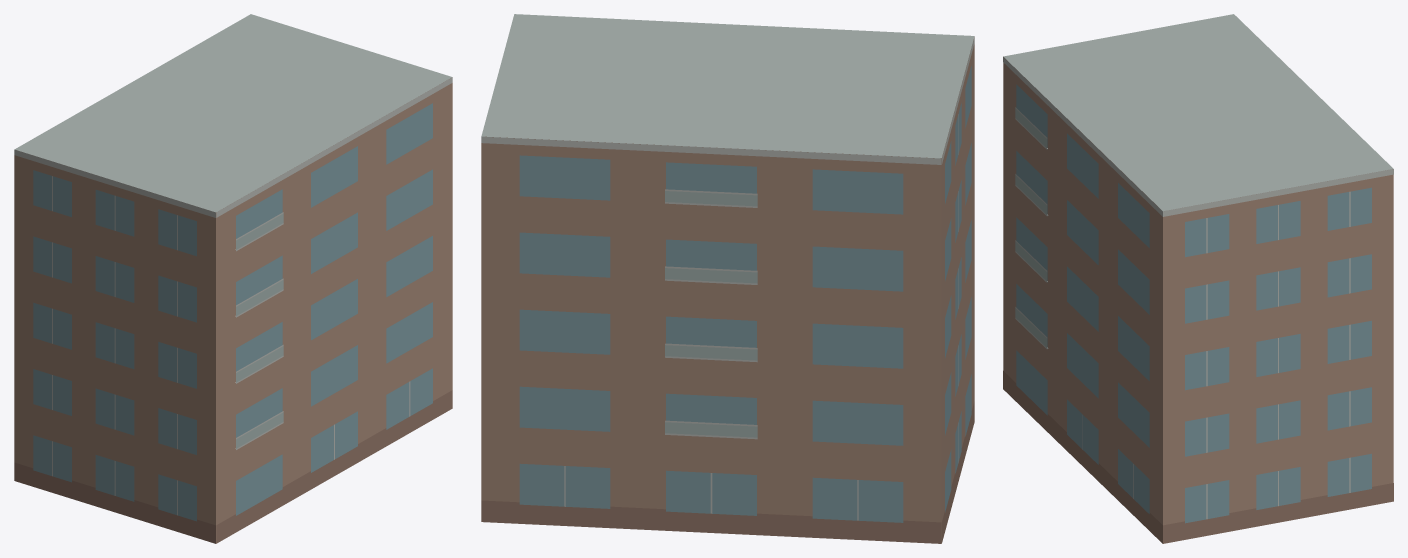
The model's file is survey-upis-33037606.glb.
The picture shows the model from 3 angles, left to right: view 1: azimuth 30°, elevation 25°; view 2: azimuth 150°, elevation 25°; view 3: azimuth 270°, elevation 25°; orthographic projection. The views are drawn at different scales.
Parts seen in each view (by area): view 1: survey-upis-33037606.tmp; view 2: survey-upis-33037606.tmp; view 3: survey-upis-33037606.tmp.
Part boxes in pixels (x1,y1,x2,y2): survey-upis-33037606.tmp: (14,14,452,543); survey-upis-33037606.tmp: (481,14,974,543); survey-upis-33037606.tmp: (1003,14,1393,543).
Size of the model in its own units: 18.23 by 14.32 by 15.25.
